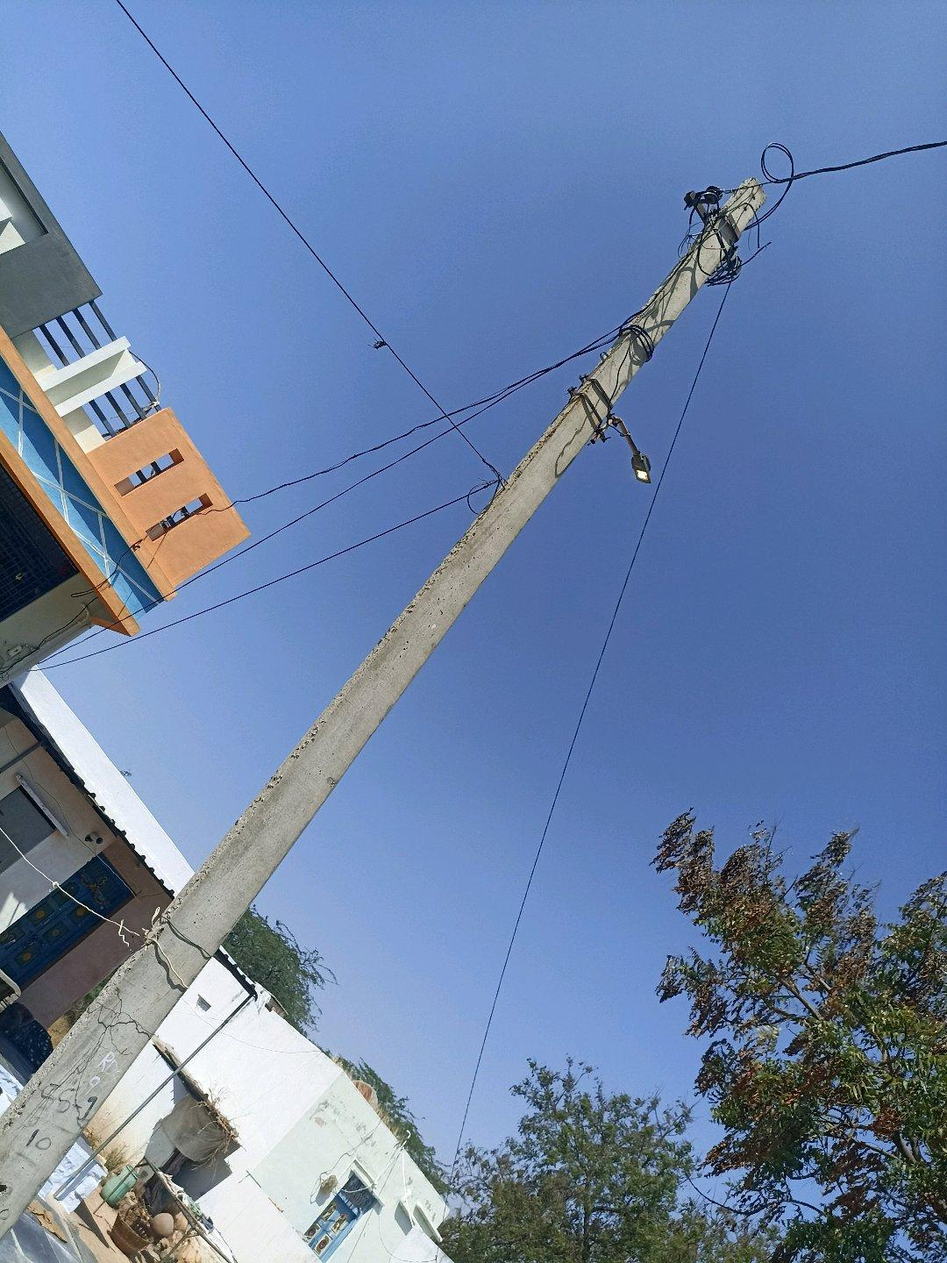{"0" "insulator", "1" "pole", "2" "crossarm", "3" "conductor", "4" "street_: (0, 180, 764, 1237)
